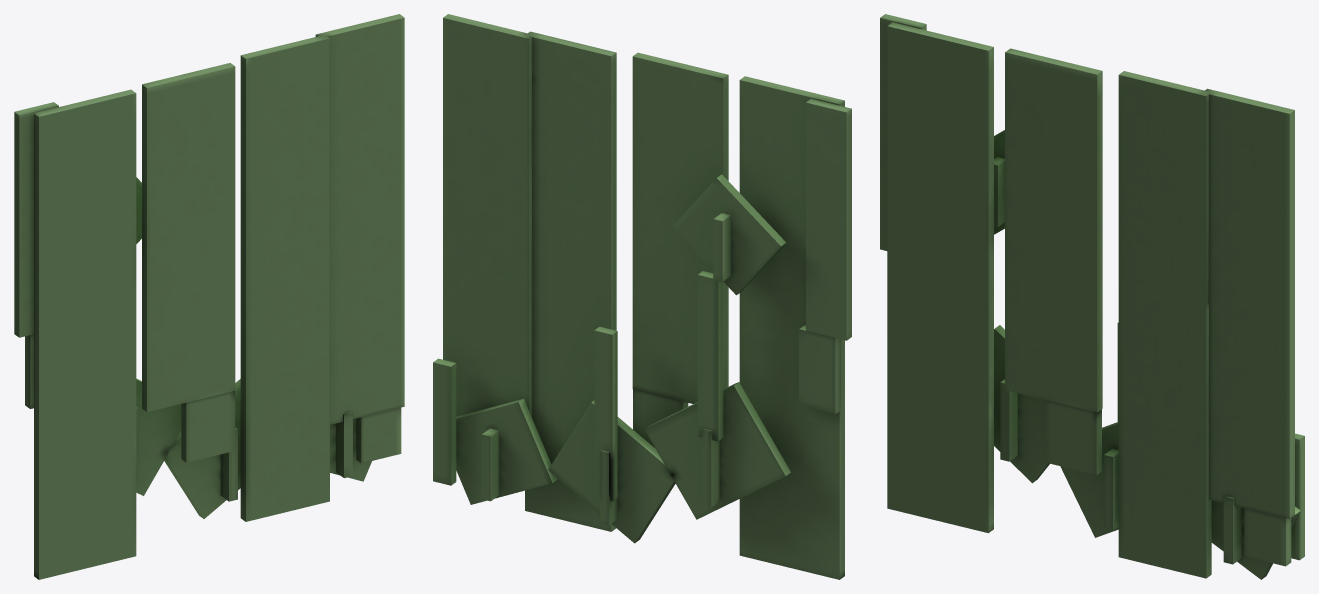
The model's file is vine.glb.
3 renders of one model, left to right at view 1: azimuth 30°, elevation 25°; view 2: azimuth 150°, elevation 25°; view 3: azimuth 330°, elevation 25°, orthographic. The views are drawn at different scales.
Visible parts, largest first — view 1: vine; view 2: vine; view 3: vine.
Boxes of the visible parts, bbox=[...] form: vine: bbox=[14, 14, 404, 579]; vine: bbox=[433, 14, 851, 579]; vine: bbox=[880, 14, 1304, 579].
Size of the model in its own units: 0.88 by 1 by 0.12.
1 material, 1 textured.
